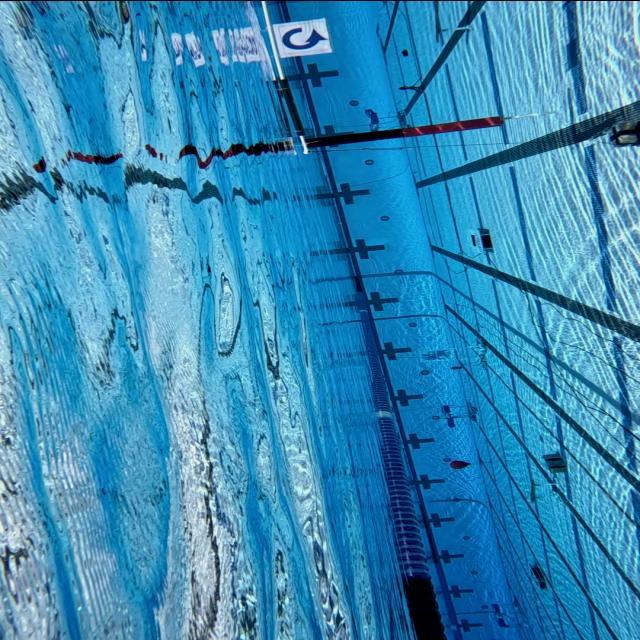blue_side: (262, 15, 334, 58)
